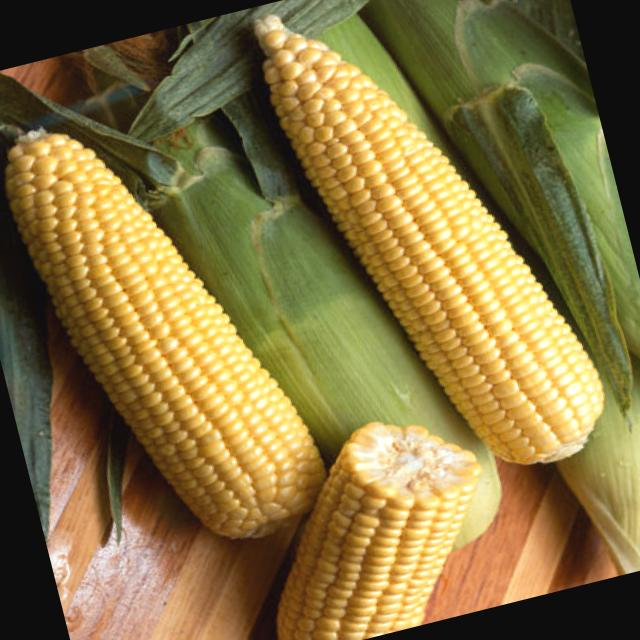corn: (218, 0, 632, 518), (0, 59, 329, 591), (200, 398, 525, 640)
